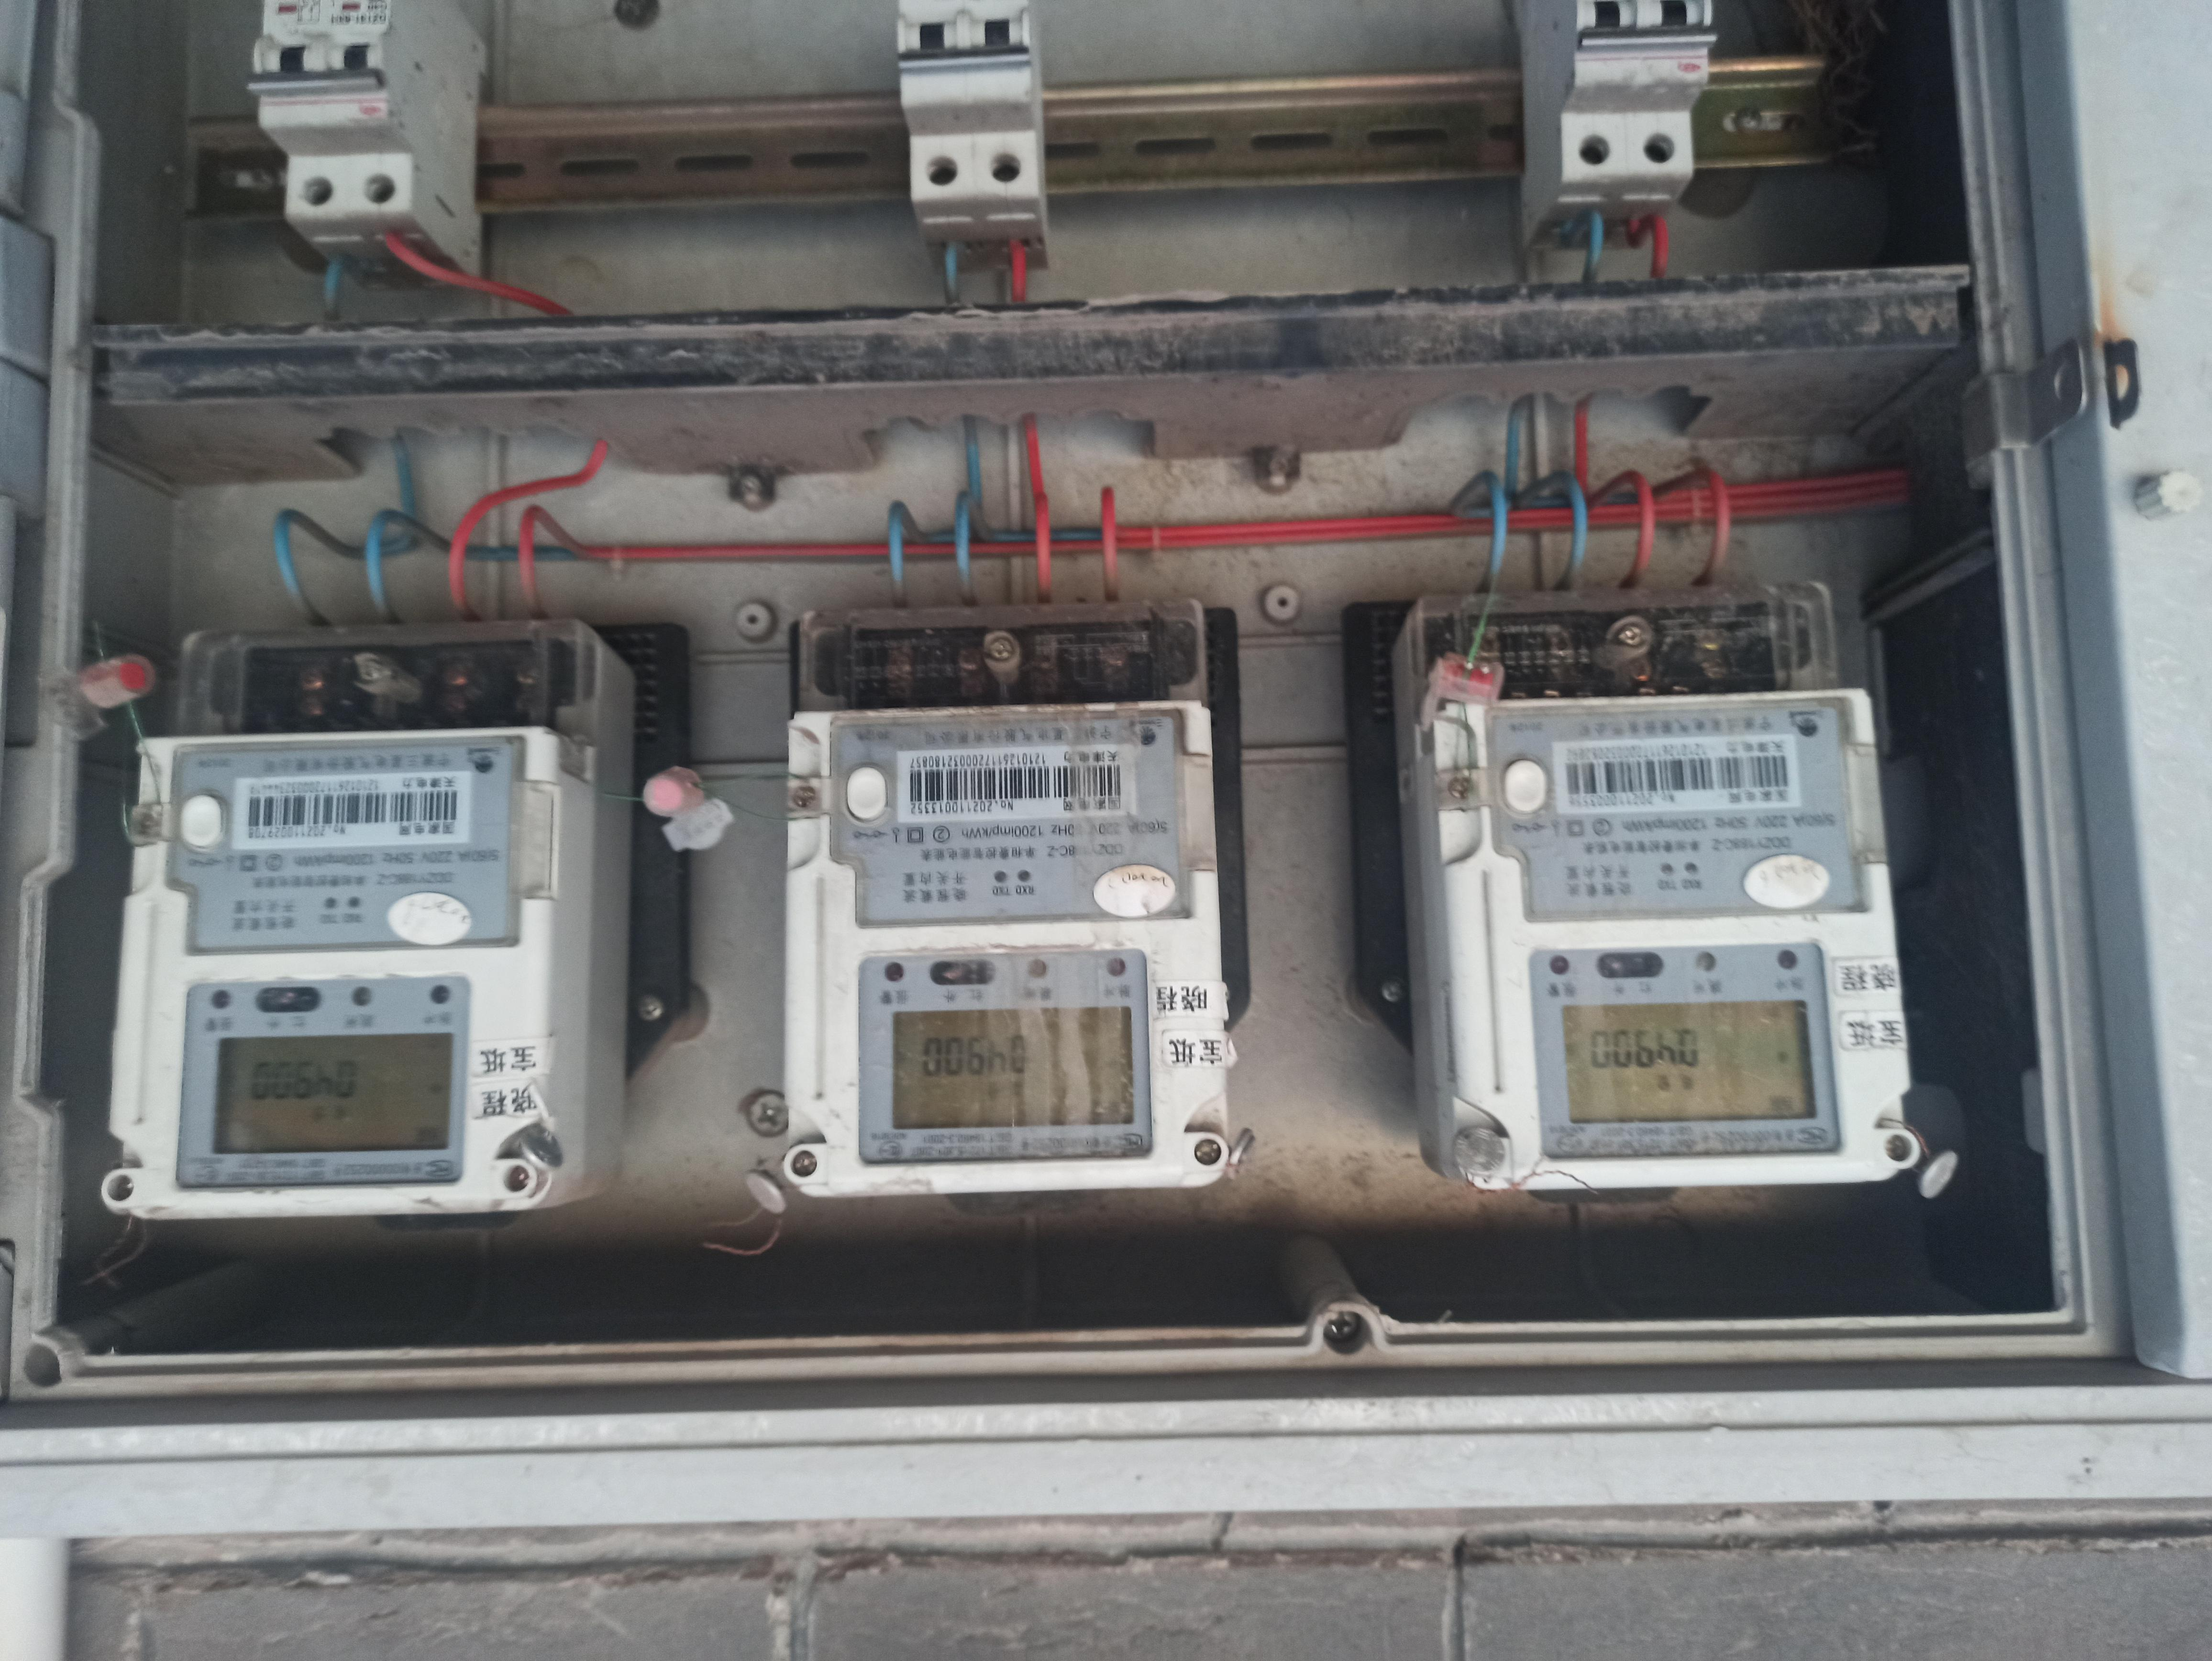digital: (1434, 694, 1912, 1165), (785, 705, 1226, 1190), (112, 735, 548, 1211)
